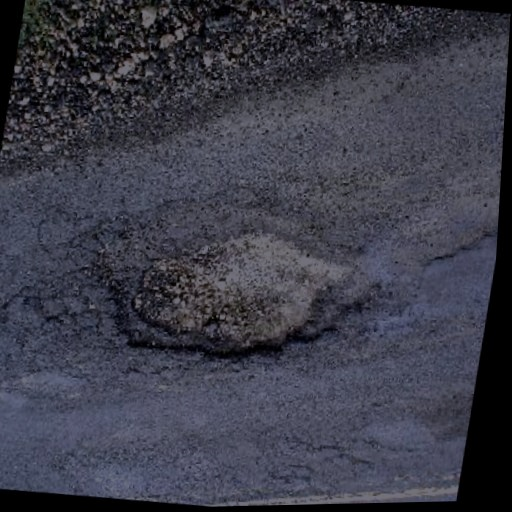pothole: (81, 204, 390, 386)
